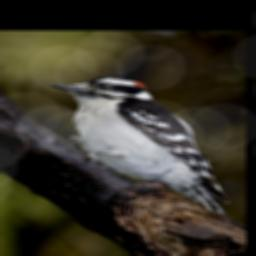Woodpecker: (48, 77, 229, 219)
